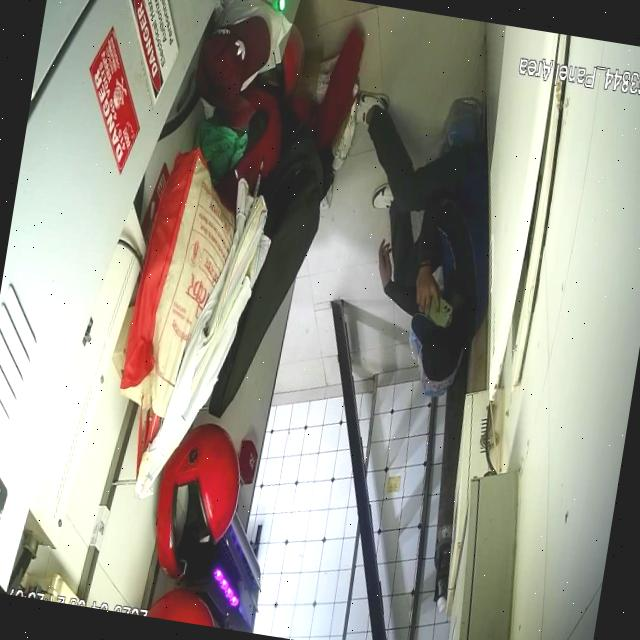helmet: (157, 423, 240, 581)
